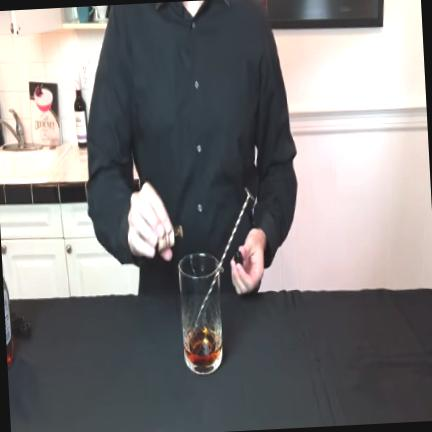container: (179, 253, 222, 374)
fluid: (184, 342, 222, 364)
fluid-surface: (185, 330, 221, 355)
